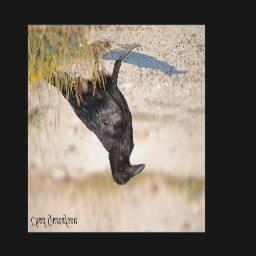Crow: (39, 42, 146, 186)
